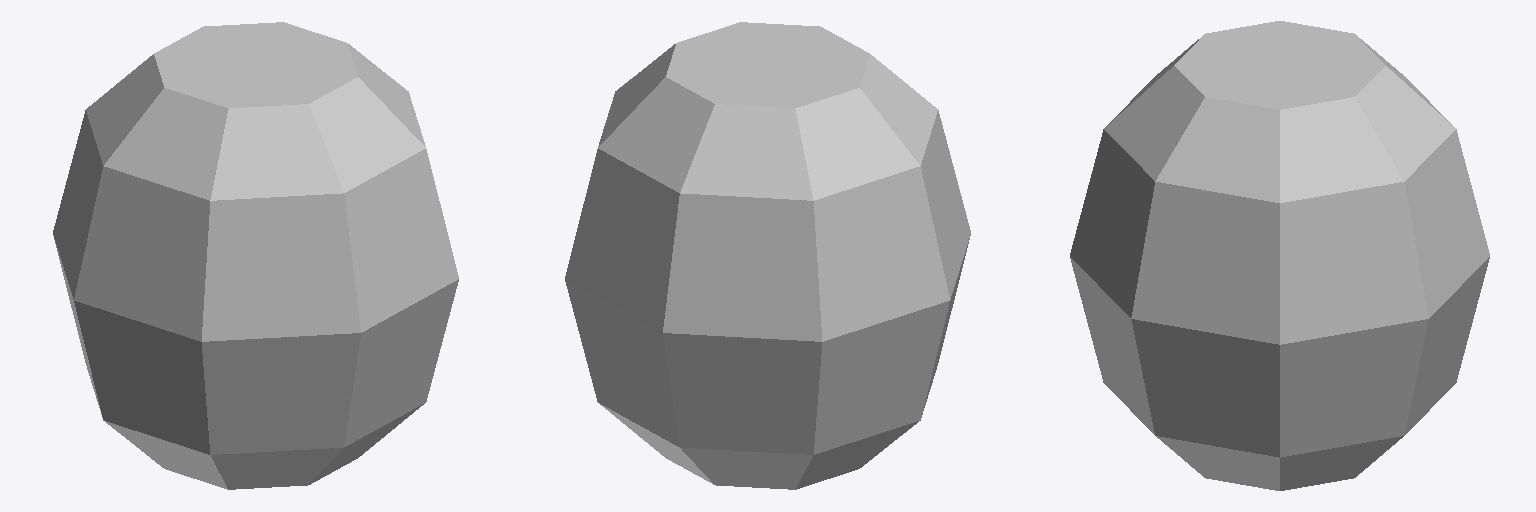
Rendered from coconut.obj.
3 renders of one model, left to right at view 1: azimuth 30°, elevation 25°; view 2: azimuth 150°, elevation 25°; view 3: azimuth 270°, elevation 25°, orthographic.
Visible parts, largest first — view 1: coconut; view 2: coconut; view 3: coconut.
Part boxes in pixels (x1,y1,x2,y2): coconut: (53,22,458,489); coconut: (565,22,970,489); coconut: (1070,21,1489,490).
Size of the model in its own units: 0.2484 by 0.2484 by 0.2484.